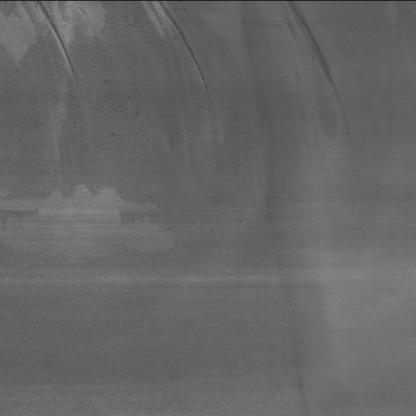crease: (276, 0, 362, 97), (136, 0, 215, 87), (24, 0, 74, 76)
